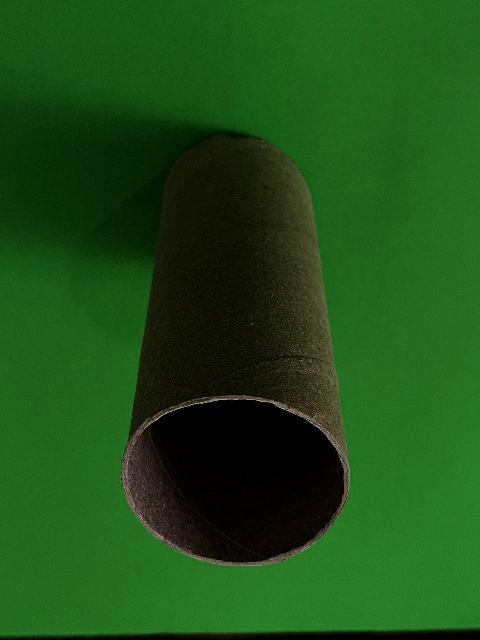tissueroll: (118, 128, 354, 570)
